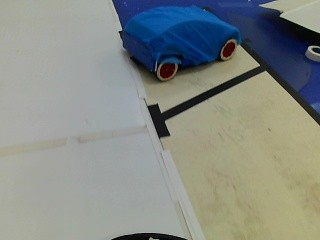car: (113, 6, 247, 81)
